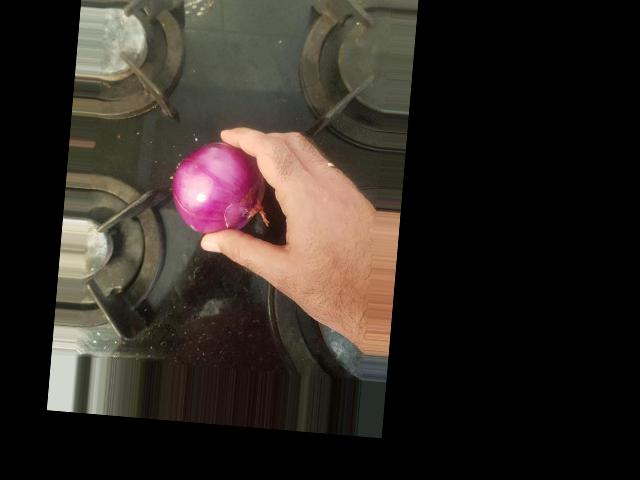onion: (176, 141, 260, 235)
